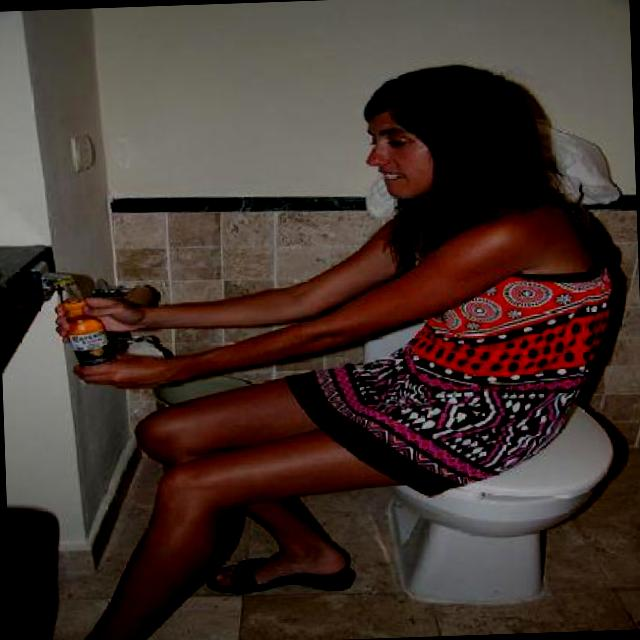Person: (43, 57, 620, 640)
